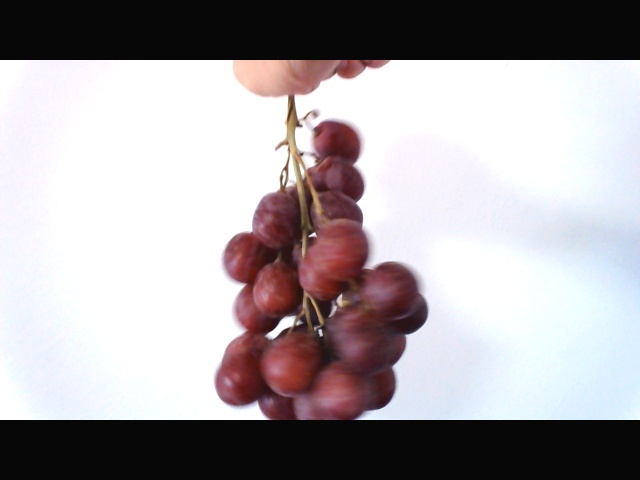grape: (188, 126, 448, 424)
